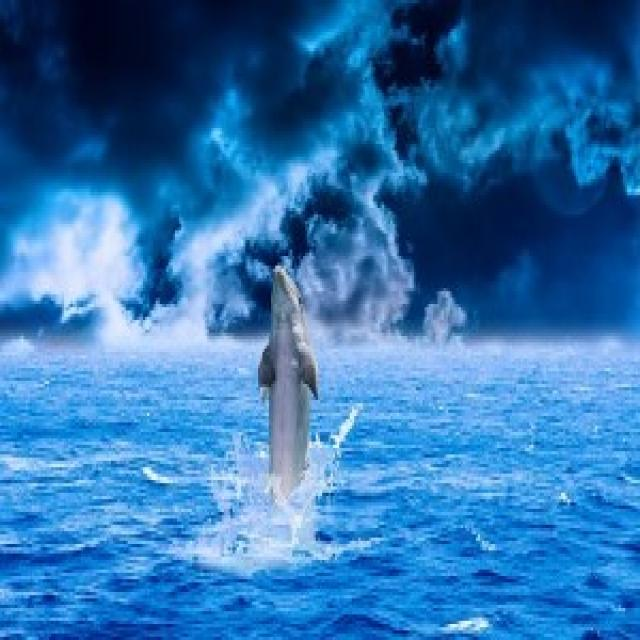Dolphin: (250, 263, 325, 531)
